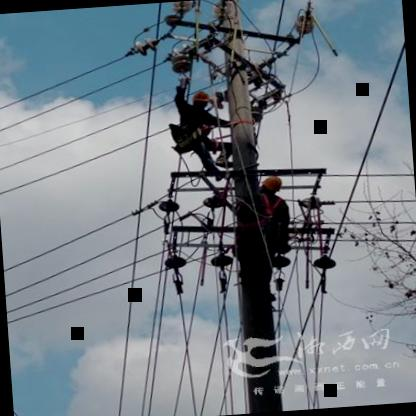helmet: (256, 172, 286, 199), (188, 89, 212, 114)
